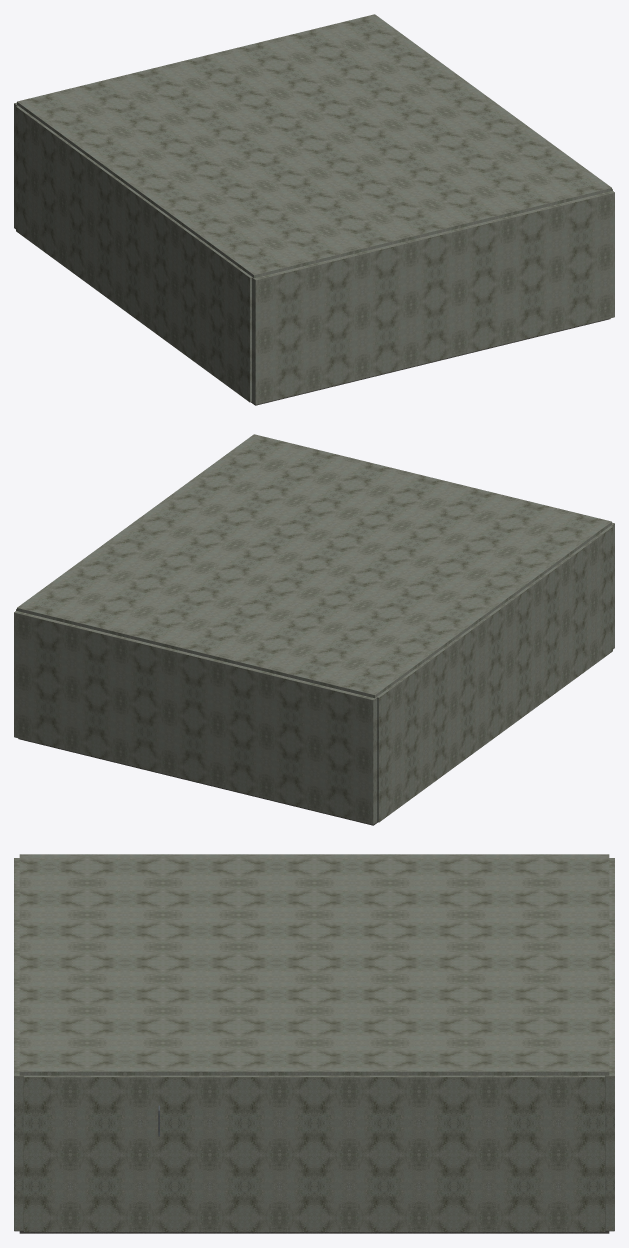
File: archives.glb
3 renders of one model, top to bottom at view 1: azimuth 30°, elevation 25°; view 2: azimuth 150°, elevation 25°; view 3: azimuth 270°, elevation 25°, orthographic. The views are drawn at different scales.
Parts seen in each view (by area): view 1: ENV_CEILING_SMOKE_STAINED, ENV_WALL_AGED; view 2: ENV_CEILING_SMOKE_STAINED, ENV_WALL_AGED; view 3: ENV_CEILING_SMOKE_STAINED, ENV_WALL_AGED, ENV_FLOOR_WORN.
Part boxes in pixels (x1,y1,x2,y2): ENV_CEILING_SMOKE_STAINED: (17,14,611,278); ENV_WALL_AGED: (14,102,614,404); ENV_CEILING_SMOKE_STAINED: (17,434,611,698); ENV_WALL_AGED: (14,522,614,824); ENV_CEILING_SMOKE_STAINED: (19,854,609,1075); ENV_WALL_AGED: (14,858,614,1232); ENV_FLOOR_WORN: (19,1231,609,1233).
Bounding box in the file's own units: 13.37 × 4.51 × 15.08.
Materials: 27 (9 with a texture image).
